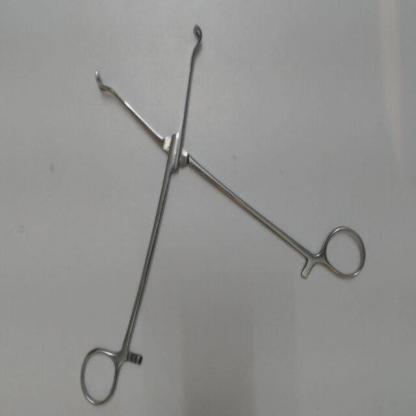8 Babcock Tissue Forceps: (76, 15, 370, 410)
